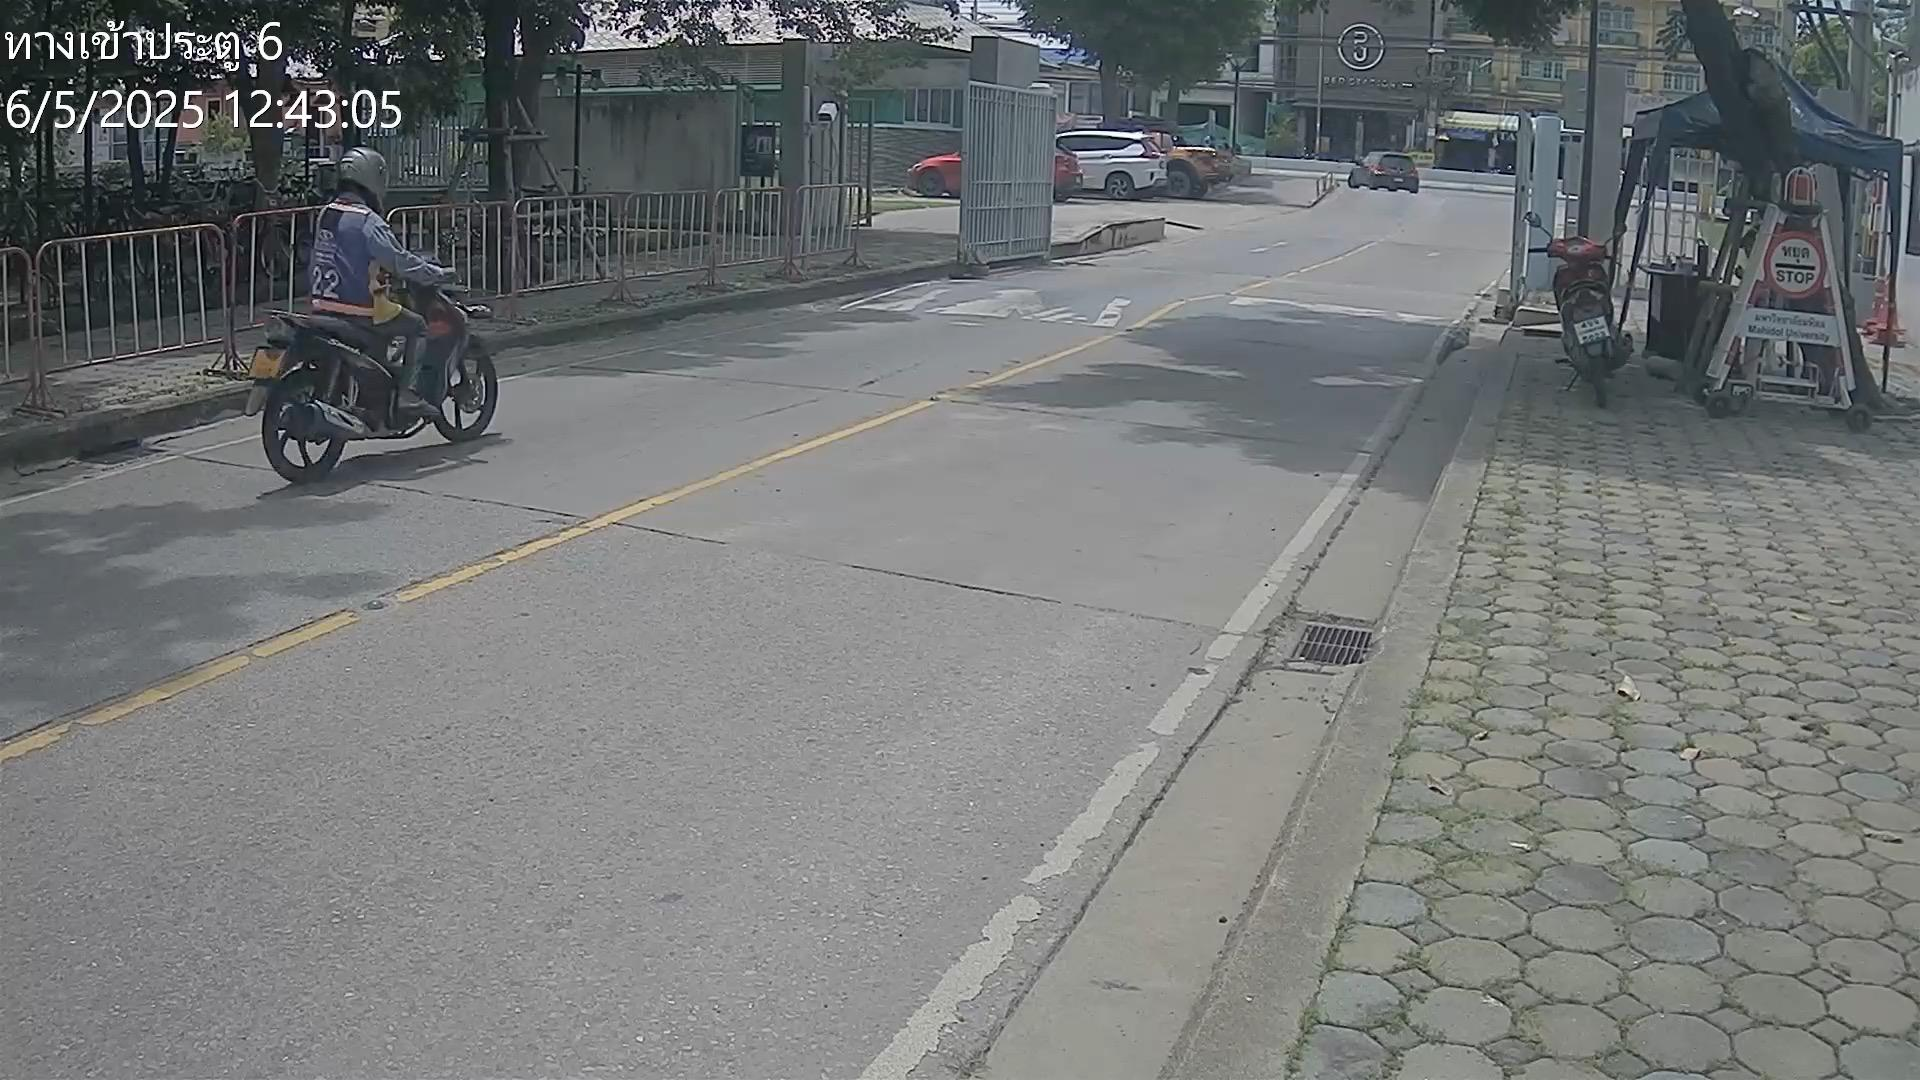With-Helmet: (342, 144, 389, 210)
